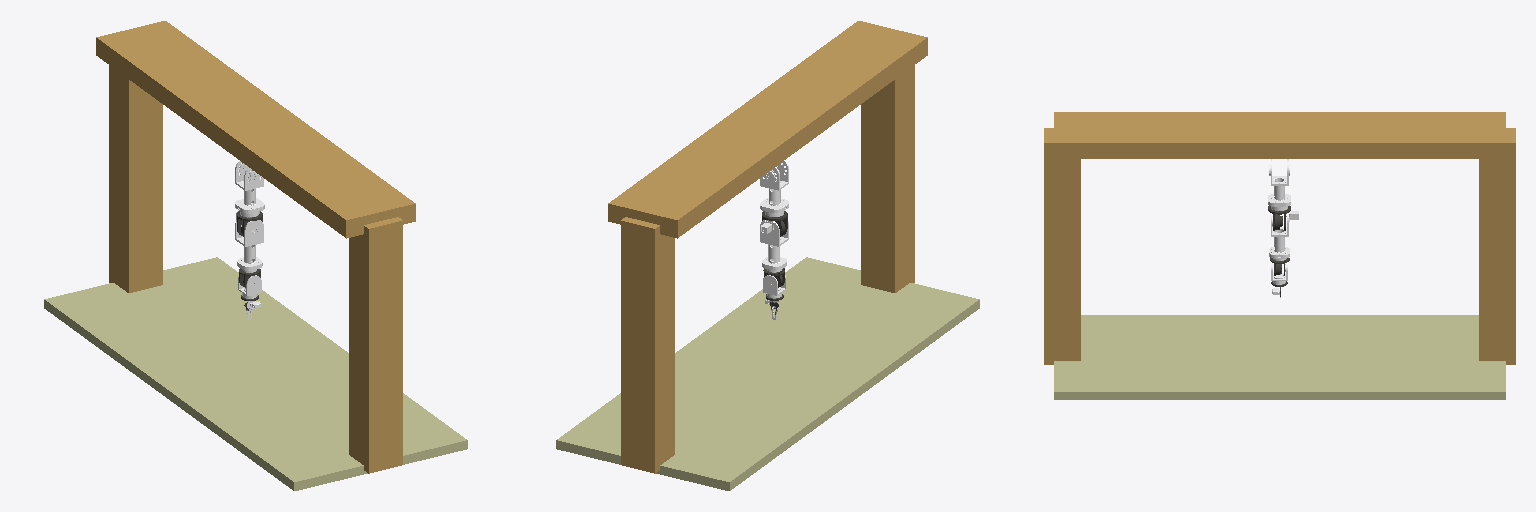
URDF robot description (daadbot):
<?xml version='1.0' encoding='utf-8'?>
<robot name="daadbot">
  
  <gazebo>
    <plugin filename="ign_ros2_control-system" name="ign_ros2_control::IgnitionROS2ControlPlugin">
      <parameters>[local-path]/xdaadbot_ws/install/daadbot_controller/share/daadbot_controller/config/effort_command_controller.yaml</parameters>
    </plugin>
  </gazebo>
  <ros2_control name="Manipulator" type="system">
    <hardware>
      <plugin>ign_ros2_control/IgnitionSystem</plugin>
    </hardware>
    <joint name="base_claw_joint1">
      <param name="mimic">gear1_joint</param>
      <param name="multiplier">-1</param>
      <state_interface name="position" />
      <state_interface name="velocity" />
      <state_interface name="effort" />
    </joint>
    <joint name="claw_joint1">
      <param name="mimic">base_claw_joint1</param>
      <param name="multiplier">1</param>
      <state_interface name="position" />
      <state_interface name="velocity" />
      <state_interface name="effort" />
    </joint>
    <joint name="gear2_joint">
      <param name="mimic">gear1_joint</param>
      <param name="multiplier">-1</param>
      <state_interface name="position" />
      <state_interface name="velocity" />
      <state_interface name="effort" />
    </joint>
    <joint name="base_claw_joint2">
      <param name="mimic">gear1_joint</param>
      <param name="multiplier">-1</param>
      <state_interface name="position" />
      <state_interface name="velocity" />
      <state_interface name="effort" />
    </joint>
    <joint name="claw_joint2">
      <param name="mimic">base_claw_joint2</param>
      <param name="multiplier">-1</param>
      <state_interface name="position" />
      <state_interface name="velocity" />
      <state_interface name="effort" />
    </joint>
    <joint name="joint_1">
      <command_interface name="effort">
        <param name="min">-18</param>
        <param name="max">18</param>
      </command_interface>
      <state_interface name="position" />
      <state_interface name="velocity" />
      <state_interface name="effort" />
    </joint>
    <joint name="joint_2">
      <command_interface name="effort">
        <param name="min">-39</param>
        <param name="max">39</param>
      </command_interface>
      <state_interface name="position" />
      <state_interface name="velocity" />
      <state_interface name="effort" />
    </joint>
    <joint name="joint_3">
      <command_interface name="effort">
        <param name="min">-18</param>
        <param name="max">18</param>
      </command_interface>
      <state_interface name="position" />
      <state_interface name="velocity" />
      <state_interface name="effort" />
    </joint>
    <joint name="joint_4">
      <command_interface name="effort">
        <param name="min">-18</param>
        <param name="max">18</param>
      </command_interface>
      <state_interface name="position" />
      <state_interface name="velocity" />
      <state_interface name="effort" />
    </joint>
    <joint name="joint_5">
      <command_interface name="effort">
        <param name="min">-5</param>
        <param name="max">5</param>
      </command_interface>
      <state_interface name="position" />
      <state_interface name="velocity" />
      <state_interface name="effort" />
    </joint>
    <joint name="joint_6">
      <command_interface name="effort">
        <param name="min">-5</param>
        <param name="max">5</param>
      </command_interface>
      <state_interface name="position" />
      <state_interface name="velocity" />
      <state_interface name="effort" />
    </joint>
    <joint name="joint_7">
      <command_interface name="effort">
        <param name="min">-5</param>
        <param name="max">5</param>
      </command_interface>
      <state_interface name="position" />
      <state_interface name="velocity" />
      <state_interface name="effort" />
    </joint>
    <joint name="gear1_joint">
      <command_interface name="effort">
        <param name="min">-180</param>
        <param name="max">180</param>
      </command_interface>
      <state_interface name="position" />
      <state_interface name="velocity" />
      <state_interface name="effort" />
    </joint>
  </ros2_control>
  <link name="table_top">
    <inertial>
      <origin rpy="0 0 0" xyz="0 0 0.5" />
      <mass value="50.0" />
      <inertia ixx="10.0" ixy="0" ixz="0" iyy="10.0" iyz="0" izz="10.0" />
    </inertial>
    <visual>
      <origin rpy="0 0 0" xyz="0 0 0" />
      <geometry>
        <box size="1.0 2.5 0.05" />
      </geometry>
      <material name="grey_base">
        <color rgba="0.81 0.81 0.63 1.0" />
      </material>
    </visual>
    <collision>
      <origin rpy="0 0 0" xyz="0 0 0" />
      <geometry>
        <box size="1.0 2.5 0.05" />
      </geometry>
    </collision>
    <visual>
      <origin rpy="0 0 0" xyz="0 1.2 0.675" />
      <geometry>
        <box size="0.2 0.2 1.35" />
      </geometry>
      <material name="wood_pillar_l">
        <color rgba="0.81 0.66 0.41 1" />
      </material>
    </visual>
    <collision>
      <origin rpy="0 0 0" xyz="0 1.2 0.675" />
      <geometry>
        <box size="0.2 0.2 1.35" />
      </geometry>
    </collision>
    <visual>
      <origin rpy="0 0 0" xyz="0 -1.2 0.675" />
      <geometry>
        <box size="0.2 0.2 1.35" />
      </geometry>
      <material name="wood_pillar_r">
        <color rgba="0.81 0.66 0.41 1" />
      </material>
    </visual>
    <collision>
      <origin rpy="0 0 0" xyz="0 -1.2 0.675" />
      <geometry>
        <box size="0.2 0.2 1.35" />
      </geometry>
    </collision>
    <visual>
      <origin rpy="0 0 0" xyz="0 0 1.35" />
      <geometry>
        <box size="0.4 2.5 0.1" />
      </geometry>
      <material name="wood_beam">
        <color rgba="0.81 0.66 0.41 1" />
      </material>
    </visual>
    <collision>
      <origin rpy="0 0 0" xyz="0 0 1.35" />
      <geometry>
        <box size="0.4 2.5 0.1" />
      </geometry>
    </collision>
  </link>
  <link name="table_link1">
    <inertial>
      <origin rpy="0 0 0" xyz="0 0 0" />
      <mass value="0.001" />
      <inertia ixx="0.0001" ixy="0" ixz="0" iyy="0.0001" iyz="0" izz="0.0001" />
    </inertial>
  </link>
  <joint name="jnt1" type="fixed">
    <origin rpy="-1.5708 0 3.1416" xyz="0.005 0 1.28" />
    <parent link="table_top" />
    <child link="table_link1" />
    <axis xyz="0 0 0" />
  </joint>
  
  <link name="world" />
  
  <joint name="table_joint" type="fixed">
    <parent link="world" />
    <child link="table_top" />
    <origin rpy="0 0 0" xyz="0 0 0" />
    
  </joint>
  
  <joint name="base_joint" type="fixed">
    <parent link="table_top" />
    <child link="base_link" />
    <origin rpy="0 3.14 0" xyz="0.000 0.0 1.285" />
    
    
    
  </joint>
  <link name="base_link">
    <inertial>
      <origin rpy="0 0 0" xyz="-0.00246645540256236 -0.00131466478904116 0.00320374562257973" />
      <mass value="6.91122989464636" />
      <inertia ixx="0.0466171750852481" ixy="0.00010076855342015" ixz="5.14819747192778E-08" iyy="0.0464821203083076" iyz="-1.44621889265211E-07" izz="0.0929840869855057" />
    </inertial>
    <visual>
      <origin rpy="0 0 0" xyz="0 0 0" />
      <geometry>
        <mesh filename="package://daadbot_desc/meshes/base_link.STL" />
      </geometry>
      <material name="">
        <color rgba="1 1 1 1.0" />
      </material>
    </visual>
    <collision>
      <origin rpy="0 0 0" xyz="0 0 0" />
      <geometry>
        <mesh filename="package://daadbot_desc/meshes/base_link.STL" />
      </geometry>
    </collision>
  </link>
  <link name="Link_1">
    <inertial>
      <origin rpy="0 0 3.14" xyz="0.0222146013900772 2.73568109690481E-06 0.0747841784291177" />
      <mass value="1.840594" />
      <inertia ixx="0.002608" ixy="0.000000" ixz="-0.000340" iyy="0.004111" iyz="0.000000" izz="0.003287" />
    </inertial>
    <visual>
      <origin rpy="0 0 0" xyz="0 0 0" />
      <geometry>
        <mesh filename="package://daadbot_desc/meshes/Link_1.STL" />
      </geometry>
      <material name="">
        <color rgba="0.329 0.322 0.302 1" />
      </material>
    </visual>
    <collision>
      <origin rpy="0 0 0" xyz="0 0 0" />
      <geometry>
        <mesh filename="package://daadbot_desc/meshes/Link_1.STL" />
      </geometry>
    </collision>
  </link>
  <joint name="joint_1" type="revolute">
    <origin rpy="0 0 0" xyz="-0.0029638 -0.0015759 0.04796" />
    <parent link="base_link" />
    <child link="Link_1" />
    <axis xyz="0 0 -1" />
    <limit effort="40.0" lower="-3.2" upper="3.2" velocity="1.2" />
    <dynamics damping="0.3" friction="0.0" />
  </joint>
  <gazebo reference="joint_1">
    <sensor name="ft_sensor_joint_1" type="force_torque">
      <always_on>true</always_on>
      <update_rate>1000</update_rate>
      <force_torque>
        <frame>child</frame>
        <measure_direction>child_to_parent</measure_direction>
      </force_torque>
      <pose>0 0 0 0 0 0</pose>
    </sensor>
  </gazebo>
  <link name="Link_2">
    <inertial>
      <origin rpy="0 0 0" xyz="0.121210588587965 0.000230649813345946 -0.049540637756618" />
      <mass value="1.880291" />
      <inertia ixx="0.003259" ixy="0.000002" ixz="0.000000" iyy="0.002176" iyz="0.000000" izz="0.002620" />
    </inertial>
    <visual>
      <origin rpy="0 0 0" xyz="0 0 0" />
      <geometry>
        <mesh filename="package://daadbot_desc/meshes/Link_2.STL" />
      </geometry>
      <material name="">
        <color rgba="1 1 1 1" />
      </material>
    </visual>
    <collision>
      <origin rpy="0 0 0" xyz="0 0 0" />
      <geometry>
        <mesh filename="package://daadbot_desc/meshes/Link_2.STL" />
      </geometry>
    </collision>
  </link>
  <joint name="joint_2" type="revolute">
    <origin rpy="1.57 -1.57 0" xyz="0.0400000000000002 -0.050000000000002 0.114463048454132" />
    <parent link="Link_1" />
    <child link="Link_2" />
    <axis xyz="0 0 -1" />
    <limit effort="40.0" lower="-1.745" upper="1.745" velocity="1.2" />
    <dynamics damping="0.3" friction="0.0" />
    <sensor name="force_torque" type="force_torque">
      <update_rate>30</update_rate>
    </sensor>
  </joint>
  <link name="Link_3">
    <inertial>
      <origin rpy="0 0 0" xyz="-0.00448997206818821 -2.34751712904213E-05 0.0488571768392556" />
      <mass value="1.521430" />
      <inertia ixx="0.002476" ixy="0.000000" ixz="0.000004" iyy="0.001550" iyz="0.000000" izz="0.001878" />
    </inertial>
    <visual>
      <origin rpy="0 0 0" xyz="0 0 0" />
      <geometry>
        <mesh filename="package://daadbot_desc/meshes/Link_3.STL" />
      </geometry>
      <material name="">
        <color rgba="0.329 0.322 0.302 1" />
      </material>
    </visual>
    <collision>
      <origin rpy="0 0 0" xyz="0 0 0" />
      <geometry>
        <mesh filename="package://daadbot_desc/meshes/Link_3.STL" />
      </geometry>
    </collision>
  </link>
  <joint name="joint_3" type="revolute">
    <origin rpy="0 1.5707963267949 0" xyz="0.234499999999998 0 -0.0495000000000002" />
    <parent link="Link_2" />
    <child link="Link_3" />
    <axis xyz="0 0 -1" />
    <limit effort="40.0" lower="-7.0" upper="7.0" velocity="1.2" />
    <dynamics damping="0.3" friction="0.0" />
  </joint>
  <link name="Link_4">
    <inertial>
      <origin rpy="0 0 0" xyz="-0.119169680650385 -0.000128811902195713 0.0378163924527294" />
      <mass value="2.508624" />
      <inertia ixx="0.002887" ixy="0.000002" ixz="-0.000001" iyy="0.002232" iyz="-0.000001" izz="0.002748" />
    </inertial>
    <visual>
      <origin rpy="0 0 0" xyz="0 0 0" />
      <geometry>
        <mesh filename="package://daadbot_desc/meshes/Link_4.STL" />
      </geometry>
      <material name="">
        <color rgba="1 1 1 1" />
      </material>
    </visual>
    <collision>
      <origin rpy="0 0 0" xyz="0 0 0" />
      <geometry>
        <mesh filename="package://daadbot_desc/meshes/Link_4.STL" />
      </geometry>
    </collision>
  </link>
  <joint name="joint_4" type="revolute">
    <origin rpy="0 1.5707963267949 0" xyz="-0.0324999999999996 0 0.0750000000000004" />
    <parent link="Link_3" />
    <child link="Link_4" />
    <axis xyz="0 0 -1" />
    <limit effort="40.0" lower="-1.745" upper="1.745" velocity="1.2" />
    <dynamics damping="0.3" friction="0.0" />
  </joint>
  <link name="Link_5">
    <inertial>
      <origin rpy="3.14 0 0" xyz="0.00685541523757274 3.79292913340323E-05 0.0488580132405974" />
      <mass value="1.321643" />
      <inertia ixx="0.001150" ixy="0.000001" ixz="-0.000001" iyy="0.000707" iyz="-0.000000" izz="0.000835" />
    </inertial>
    <visual>
      <origin rpy="0 0 0" xyz="0 0 0" />
      <geometry>
        <mesh filename="package://daadbot_desc/meshes/Link_5.STL" />
      </geometry>
      <material name="">
        <color rgba="0.329 0.322 0.302 1" />
      </material>
    </visual>
    <collision>
      <origin rpy="0 0 0" xyz="0 0 0" />
      <geometry>
        <mesh filename="package://daadbot_desc/meshes/Link_5.STL" />
      </geometry>
    </collision>
  </link>
  <joint name="joint_5" type="revolute">
    <origin rpy="3.14159265358979 1.5707963267949 0" xyz="-0.2284999036789 0 0.0330000000000004" />
    <parent link="Link_4" />
    <child link="Link_5" />
    <axis xyz="0 0 -1" />
    <limit effort="15" lower="-3.2" upper="3.4" velocity="1.2" />
    <dynamics damping="0.3" friction="0.0" />
  </joint>
  <link name="Link_6">
    <inertial>
      <origin rpy="0 0 0" xyz="-0.0534048711825299 4.35092388909042E-05 0.0268001409986631" />
      <mass value="1.527108" />
      <inertia ixx="0.001125" ixy="0.000001" ixz="-0.000003" iyy="0.000791" iyz="-0.000003" izz="0.000987" />
    </inertial>
    <visual>
      <origin rpy="0 0 0" xyz="0 0 0" />
      <geometry>
        <mesh filename="package://daadbot_desc/meshes/link_6.STL" />
      </geometry>
      <material name="">
        <color rgba="1 1 1 1" />
      </material>
    </visual>
    <collision>
      <origin rpy="0 0 0" xyz="0 0 0" />
      <geometry>
        <mesh filename="package://daadbot_desc/meshes/link_6.STL" />
      </geometry>
    </collision>
  </link>
  <joint name="joint_6" type="revolute">
    <origin rpy="-1.57 1.57 -1.57" xyz="-0.0265000104908596 0 0.0575000000000075" />
    <parent link="Link_5" />
    <child link="Link_6" />
    <axis xyz="0 0 -1" />
    <limit effort="15" lower="-1.57" upper="1.57" velocity="1.2" />
    <dynamics damping="0.3" friction="0.0" />
  </joint>
  <link name="Link_7">
    <inertial>
      <origin rpy="0 0 0" xyz="-1.22738236721376E-06 1.16355040356286E-05 -0.00396913177271019" />
      <mass value="0.132694" />
      <inertia ixx="0.000070" ixy="0.000000" ixz="0.000000" iyy="0.000070" iyz="0.000000" izz="0.000138" />
    </inertial>
    <visual>
      <origin rpy="0 0 0" xyz="0 0 0" />
      <geometry>
        <mesh filename="package://daadbot_desc/meshes/Link_7.STL" />
      </geometry>
      <material name="">
        <color rgba="0.329 0.322 0.302 1" />
      </material>
    </visual>
    <collision>
      <origin rpy="0 0 0" xyz="0 0 0" />
      <geometry>
        <mesh filename="package://daadbot_desc/meshes/Link_7.STL" />
      </geometry>
    </collision>
  </link>
  <joint name="joint_7" type="revolute">
    <origin rpy="0 1.5707963267949 0" xyz="-0.0864999036793499 0 0.0280000000004628" />
    <parent link="Link_6" />
    <child link="Link_7" />
    <axis xyz="0 0 -1" />
    <limit effort="15" lower="-3.2" upper="3.2" velocity="1.2" />
    <dynamics damping="0.3" friction="0.0" />
  </joint>
  <link name="endeffector">
    <inertial>
      <origin rpy="0 0 0" xyz="0.0115230217195728 -0.0136127070797983 0.0256571894660979" />
      <mass value="0.154057788286255" />
      <inertia ixx="3.1964247663854E-05" ixy="1.07138220152465E-07" ixz="4.30086683390955E-12" iyy="2.53636526523542E-05" iyz="-9.8230347105402E-08" izz="4.73802906093003E-05" />
    </inertial>
    <visual>
      <origin rpy="0 0 0" xyz="0 0 0" />
      <geometry>
        <mesh filename="package://daadbot_desc/meshes/endeffector.STL" />
      </geometry>
      <material name="">
        <color rgba="1 1 1 1" />
      </material>
    </visual>
    <collision>
      <origin rpy="0 0 0" xyz="0 0 0" />
      <geometry>
        <mesh filename="package://daadbot_desc/meshes/endeffector.STL" />
      </geometry>
    </collision>
  </link>
  <joint name="endeffector_joint" type="fixed">
    <origin rpy="3.14159265357033 0 -3.14159265358979" xyz="0 0 -0.00799999999954315" />
    <parent link="Link_7" />
    <child link="endeffector" />
    <axis xyz="0 0 0" />
  </joint>
  <link name="gear1">
    <inertial>
      <origin rpy="0 0 0" xyz="-0.00580763486929181 0.000405747920981692 -0.00150000000000011" />
      <mass value="0.00530003886474417" />
      <inertia ixx="1.81056909473447E-07" ixy="-3.82652046422796E-08" ixz="2.51961968784482E-22" iyy="7.53619126673464E-07" iyz="-2.84205585058754E-24" izz="9.26725977849795E-07" />
    </inertial>
    <visual>
      <origin rpy="0 0 0" xyz="0 0 0" />
      <geometry>
        <mesh filename="package://daadbot_desc/meshes/gear1.STL" />
      </geometry>
      <material name="">
        <color rgba="0.329 0.322 0.302 1" />
      </material>
    </visual>
    <collision>
      <origin rpy="0 0 0" xyz="0 0 0" />
      <geometry>
        <mesh filename="package://daadbot_desc/meshes/gear1.STL" />
      </geometry>
    </collision>
  </link>
  <joint name="gear1_joint" type="revolute">
    <origin rpy="0 1.5707963267949 0" xyz="-0.00375000000000747 -0.013499999998183 0.0376789689084349" />
    <parent link="endeffector" />
    <child link="gear1" />
    <axis xyz="0 0 -1" />
    <limit effort="5" lower="-0.9" upper="0" velocity="0.0" />
    <dynamics damping="0.3" friction="0.0" />
  </joint>
  <link name="gear1_claw">
    <inertial>
      <origin rpy="0 0 0" xyz="0.023445421809937 0.00521555935278548 -0.0014999999999977" />
      <mass value="0.00393743096892517" />
      <inertia ixx="6.08354279127517E-08" ixy="-1.63551242432612E-07" ixz="1.2492000495084E-21" iyy="1.21174464720854E-06" iyz="1.75066929433463E-22" izz="1.26667392866791E-06" />
    </inertial>
    <visual>
      <origin rpy="0 0 0" xyz="0 0 0" />
      <geometry>
        <mesh filename="package://daadbot_desc/meshes/gear1_claw.STL" />
      </geometry>
      <material name="">
        <color rgba="1 1 1 1" />
      </material>
    </visual>
    <collision>
      <origin rpy="0 0 0" xyz="0 0 0" />
      <geometry>
        <mesh filename="package://daadbot_desc/meshes/gear1_claw.STL" />
      </geometry>
    </collision>
  </link>
  <joint name="claw_joint1" type="revolute">
    <origin rpy="3.14159265358979 0 3.14159265358979" xyz="-0.0309835156221249 -0.00101082129116717 0" />
    <parent link="gear1" />
    <child link="gear1_claw" />
    <axis xyz="0 0 1" />
    <limit effort="5" lower="0" upper="0.9" velocity="10" />
    <mimic joint="base_claw_joint1" multiplier="1" offset="0" />
  </joint>
  <link name="gear2_link">
    <inertial>
      <origin rpy="0 0 0" xyz="-0.00530290196064154 0.000153715606715232 -0.00375000000000136" />
      <mass value="0.00576363113945472" />
      <inertia ixx="2.15932056711738E-07" ixy="1.70682493885657E-08" ixz="-3.42106080174724E-22" iyy="8.04260102723523E-07" iyz="-8.82852580465177E-23" izz="1.01154671272608E-06" />
    </inertial>
    <visual>
      <origin rpy="0 0 0" xyz="0 0 0" />
      <geometry>
        <mesh filename="package://daadbot_desc/meshes/gear2_link.STL" />
      </geometry>
      <material name="">
        <color rgba="0.329 0.322 0.302 1" />
      </material>
    </visual>
    <collision>
      <origin rpy="0 0 0" xyz="0 0 0" />
      <geometry>
        <mesh filename="package://daadbot_desc/meshes/gear2_link.STL" />
      </geometry>
    </collision>
  </link>
  <joint name="gear2_joint" type="revolute">
    <origin rpy="0 1.5707963267949 0" xyz="-0.00149999999999997 0.0134999999992435 0.0376789689087047" />
    <parent link="endeffector" />
    <child link="gear2_link" />
    <axis xyz="0 0 -1" />
    <limit effort="5" lower="-0.9" upper="0.9" velocity="10" />
    <mimic joint="gear1_joint" multiplier="-1" offset="0" />
  </joint>
  <link name="gear2_claw">
    <inertial>
      <origin rpy="0 0 0" xyz="0.0234454486039199 -0.00521543889748319 -0.00149999999999889" />
      <mass value="0.00393743096892518" />
      <inertia ixx="6.0833747461621E-08" ixy="1.63545329654284E-07" ixz="1.24391026243428E-21" iyy="1.21174632765968E-06" iyz="-1.76544893665412E-22" izz="1.26667392866792E-06" />
    </inertial>
    <visual>
      <origin rpy="0 0 0" xyz="0 0 0" />
      <geometry>
        <mesh filename="package://daadbot_desc/meshes/gear2_claw.STL" />
      </geometry>
      <material name="">
        <color rgba="1 1 1 1" />
      </material>
    </visual>
    <collision>
      <origin rpy="0 0 0" xyz="0 0 0" />
      <geometry>
        <mesh filename="package://daadbot_desc/meshes/gear2_claw.STL" />
      </geometry>
    </collision>
  </link>
  <joint name="claw_joint2" type="revolute">
    <origin rpy="-3.14159265358979 0 -3.14159265358979" xyz="-0.0309869843208653 0.000898221965043244 -0.00225000000000025" />
    <parent link="gear2_link" />
    <child link="gear2_claw" />
    <axis xyz="0 0 1" />
    <limit effort="5" lower="-0.9" upper="0" velocity="10" />
    <mimic joint="base_claw_joint2" multiplier="-1" offset="0" />
  </joint>
  <link name="base_claw_link2">
    <inertial>
      <origin rpy="0 0 0" xyz="0.0154933084655396 0.000455403986549585 0.00375000000000131" />
      <mass value="0.00110418822863694" />
      <inertia ixx="3.26224455905998E-09" ixy="-4.45032069336059E-09" ixz="1.4396798294983E-22" iyy="1.54535887182587E-07" iyz="2.999466098399E-24" izz="1.56149541453459E-07" />
    </inertial>
    <visual>
      <origin rpy="0 0 0" xyz="0 0 0" />
      <geometry>
        <mesh filename="package://daadbot_desc/meshes/base_claw_link2.STL" />
      </geometry>
      <material name="">
        <color rgba="0.329 0.322 0.302 1" />
      </material>
    </visual>
    <collision>
      <origin rpy="0 0 0" xyz="0 0 0" />
      <geometry>
        <mesh filename="package://daadbot_desc/meshes/base_claw_link2.STL" />
      </geometry>
    </collision>
  </link>
  <joint name="base_claw_joint2" type="revolute">
    <origin rpy="0 1.5707963267949 0" xyz="0.00149999999999995 0.00524999999997672 -0.066078968907985" />
    <parent link="Link_7" />
    <child link="base_claw_link2" />
    <axis xyz="0 0 1" />
    <limit effort="5" lower="0" upper="0.9" velocity="10" />
    <mimic joint="gear1_joint" multiplier="-1" offset="0" />
  </joint>
  <link name="base_claw_link1">
    <inertial>
      <origin rpy="0 0 0" xyz="0.0154915529566088 -0.000511651241238725 0.00375000000000239" />
      <mass value="0.00110418822863695" />
      <inertia ixx="3.29655315677714E-09" ixy="4.99941634031931E-09" ixz="2.46402439239775E-22" iyy="1.54501578584872E-07" iyz="-9.36354721708262E-24" izz="1.56149541453461E-07" />
    </inertial>
    <visual>
      <origin rpy="0 0 0" xyz="0 0 0" />
      <geometry>
        <mesh filename="package://daadbot_desc/meshes/base_claw_link1.STL" />
      </geometry>
      <material name="">
        <color rgba="1 1 1 1" />
      </material>
    </visual>
    <collision>
      <origin rpy="0 0 0" xyz="0 0 0" />
      <geometry>
        <mesh filename="package://daadbot_desc/meshes/base_claw_link1.STL" />
      </geometry>
    </collision>
  </link>
  <joint name="base_claw_joint1" type="revolute">
    <origin rpy="0 1.5707963267949 0" xyz="0.00149999999999995 -0.00525000000002329 -0.066078968907985" />
    <parent link="Link_7" />
    <child link="base_claw_link1" />
    <axis xyz="0 0 -1" />
    <limit effort="5" lower="0" upper="0.9" velocity="10" />
    <mimic joint="gear1_joint" multiplier="-1" offset="0" />
  </joint>
</robot>

--- Render facts (derived) ---
3 views of the same robot in one strip: view 1: azimuth 30°, elevation 25°; view 2: azimuth 150°, elevation 25°; view 3: azimuth 270°, elevation 25° (orthographic).
Model daadbot with 18 links and 17 joints (13 revolute, 4 fixed), rooted at world, posed all joints at 0.
Links seen in each view (by area): view 1: table_top, Link_2, Link_4; view 2: table_top, Link_2, Link_4; view 3: table_top, Link_2, Link_4.
Boxes of the visible links, bbox=[...] form: table_top: bbox=[44, 21, 467, 490]; Link_2: bbox=[235, 161, 264, 217]; Link_4: bbox=[235, 212, 263, 272]; table_top: bbox=[556, 21, 979, 490]; Link_2: bbox=[760, 160, 788, 216]; Link_4: bbox=[760, 220, 788, 272]; table_top: bbox=[1044, 112, 1515, 399]; Link_2: bbox=[1268, 159, 1290, 210]; Link_4: bbox=[1269, 211, 1298, 260].
Bounding box of the posed robot: 1 × 2.6 × 1.43 m (x, y, z).
14 mesh visuals loaded from 15 distinct referenced files (14 binary STL); not drawn: 1 (reference not matched to a file when rendering).
